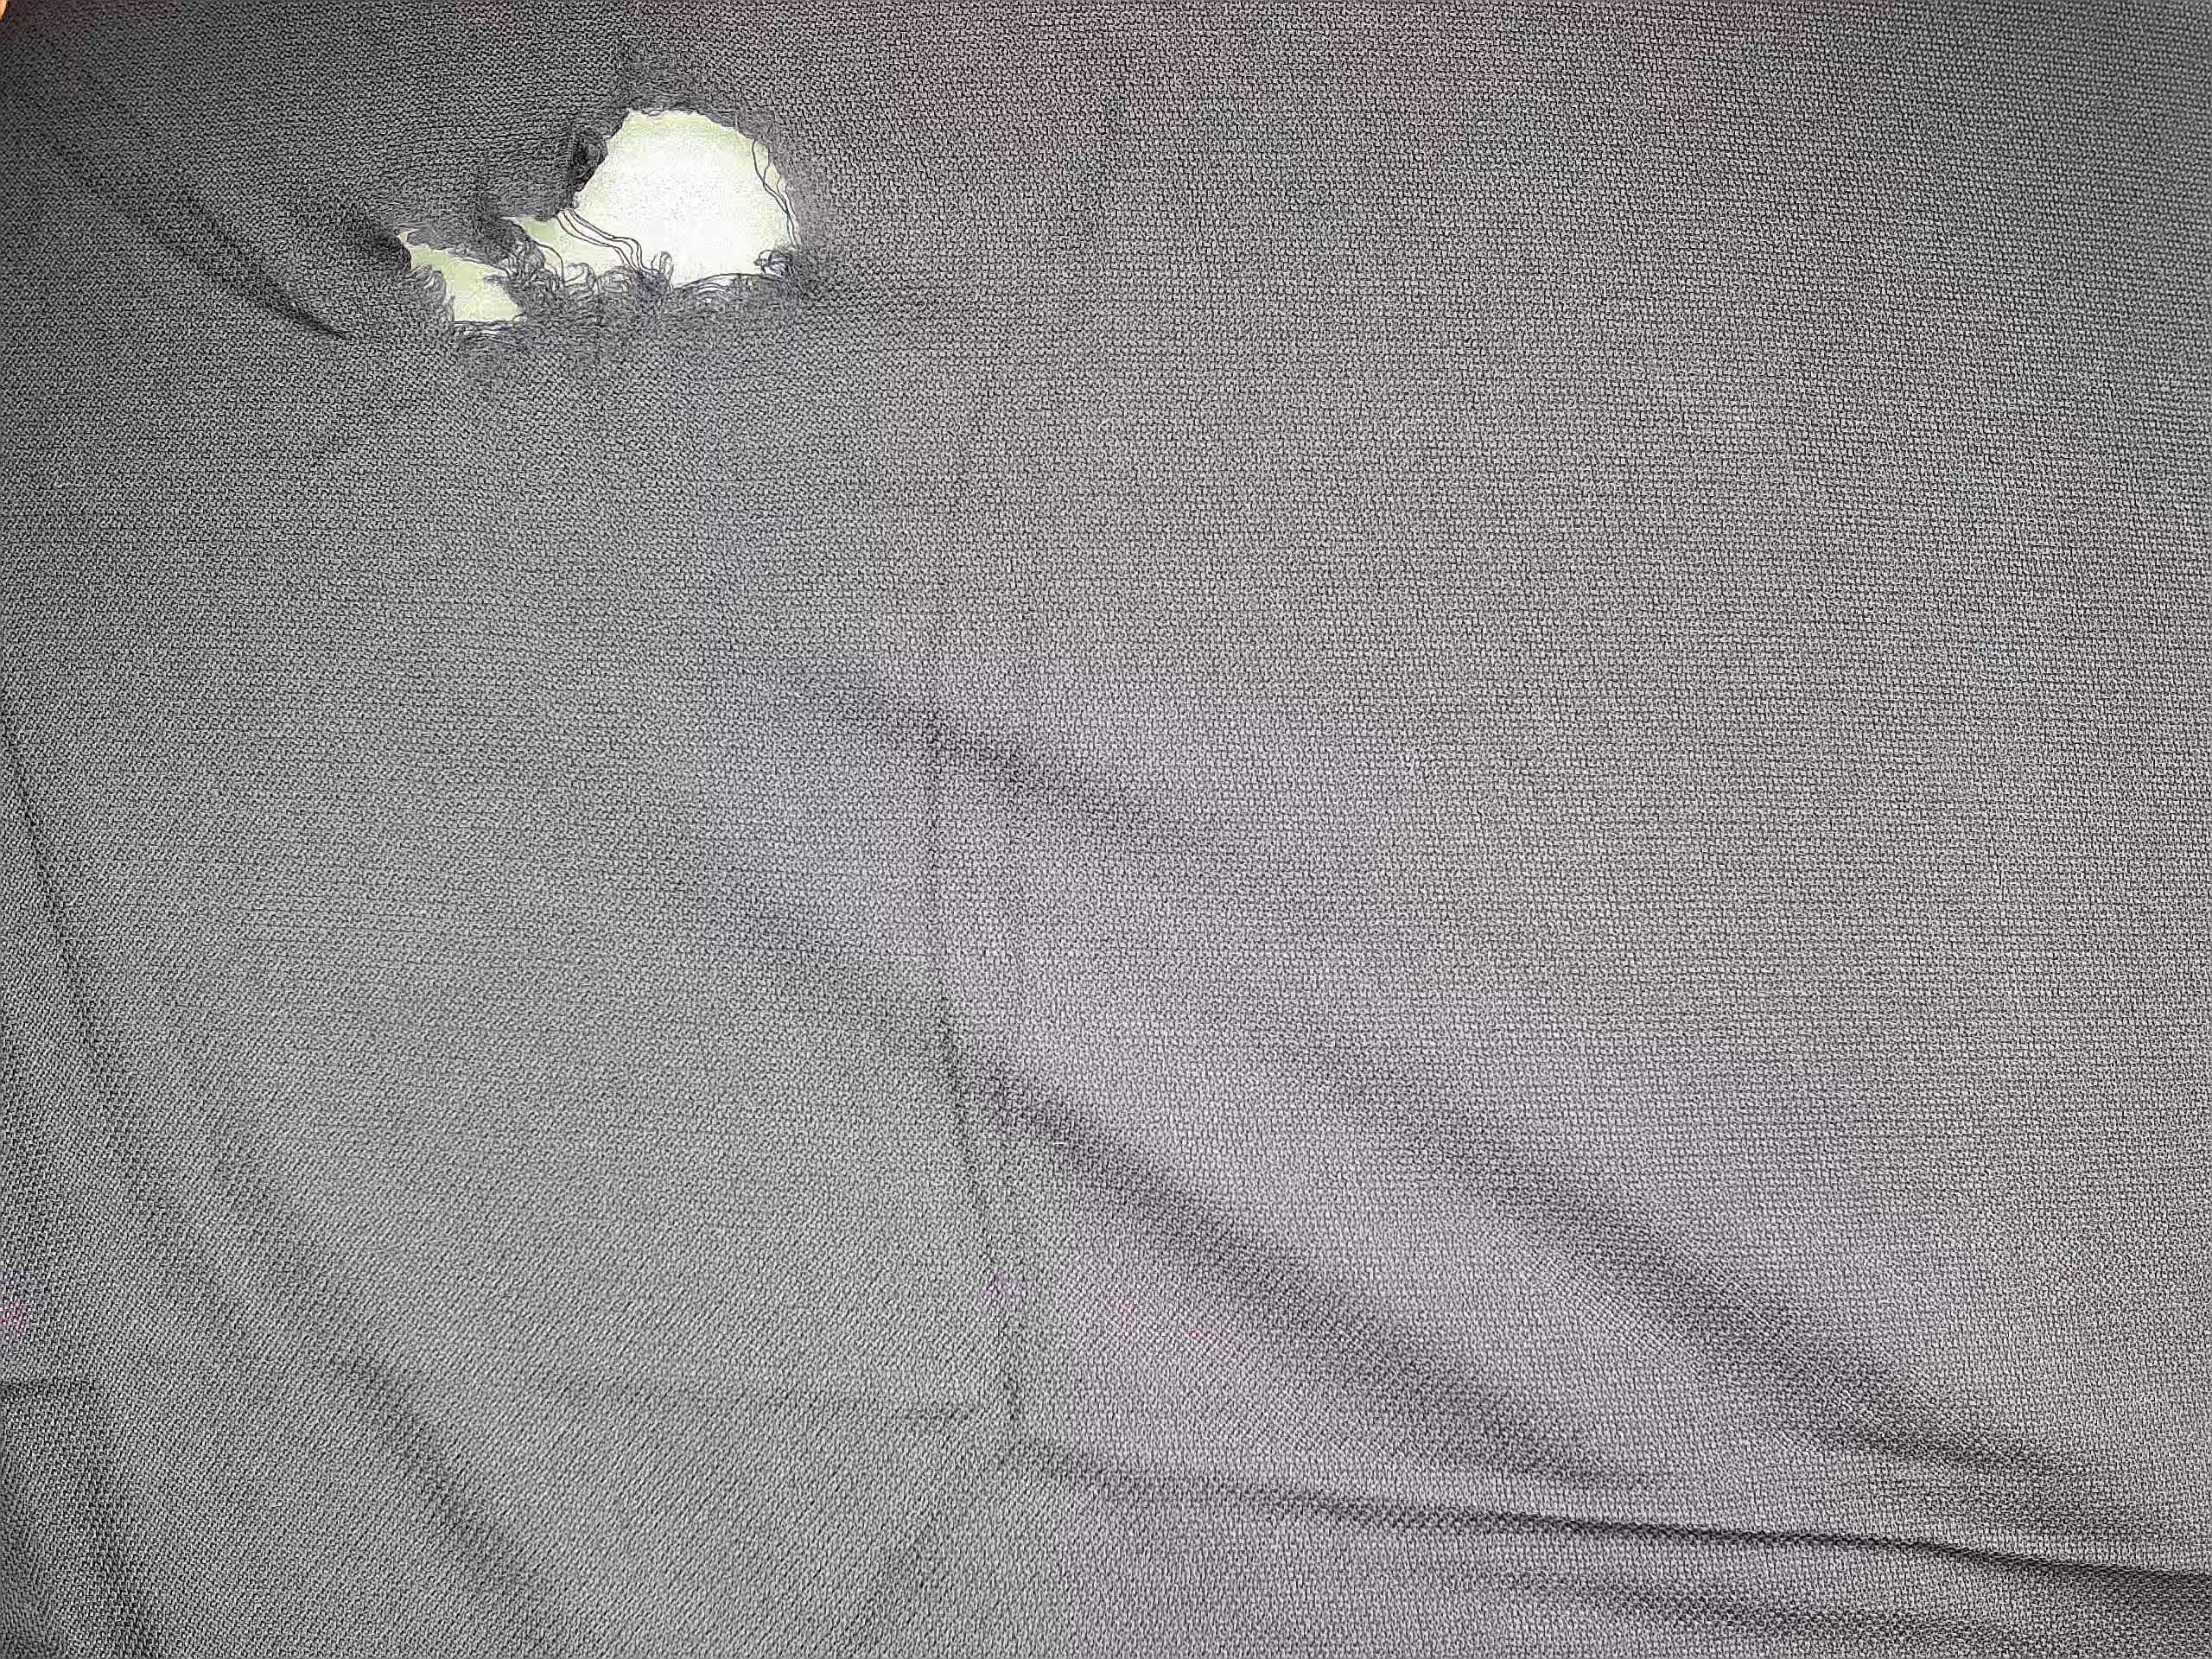rubbing-hole: (352, 68, 846, 366)
